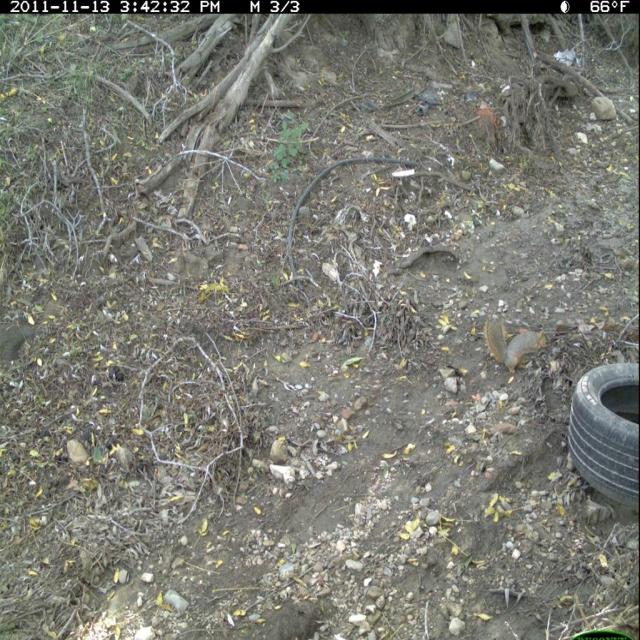squirrel: (480, 311, 556, 387)
